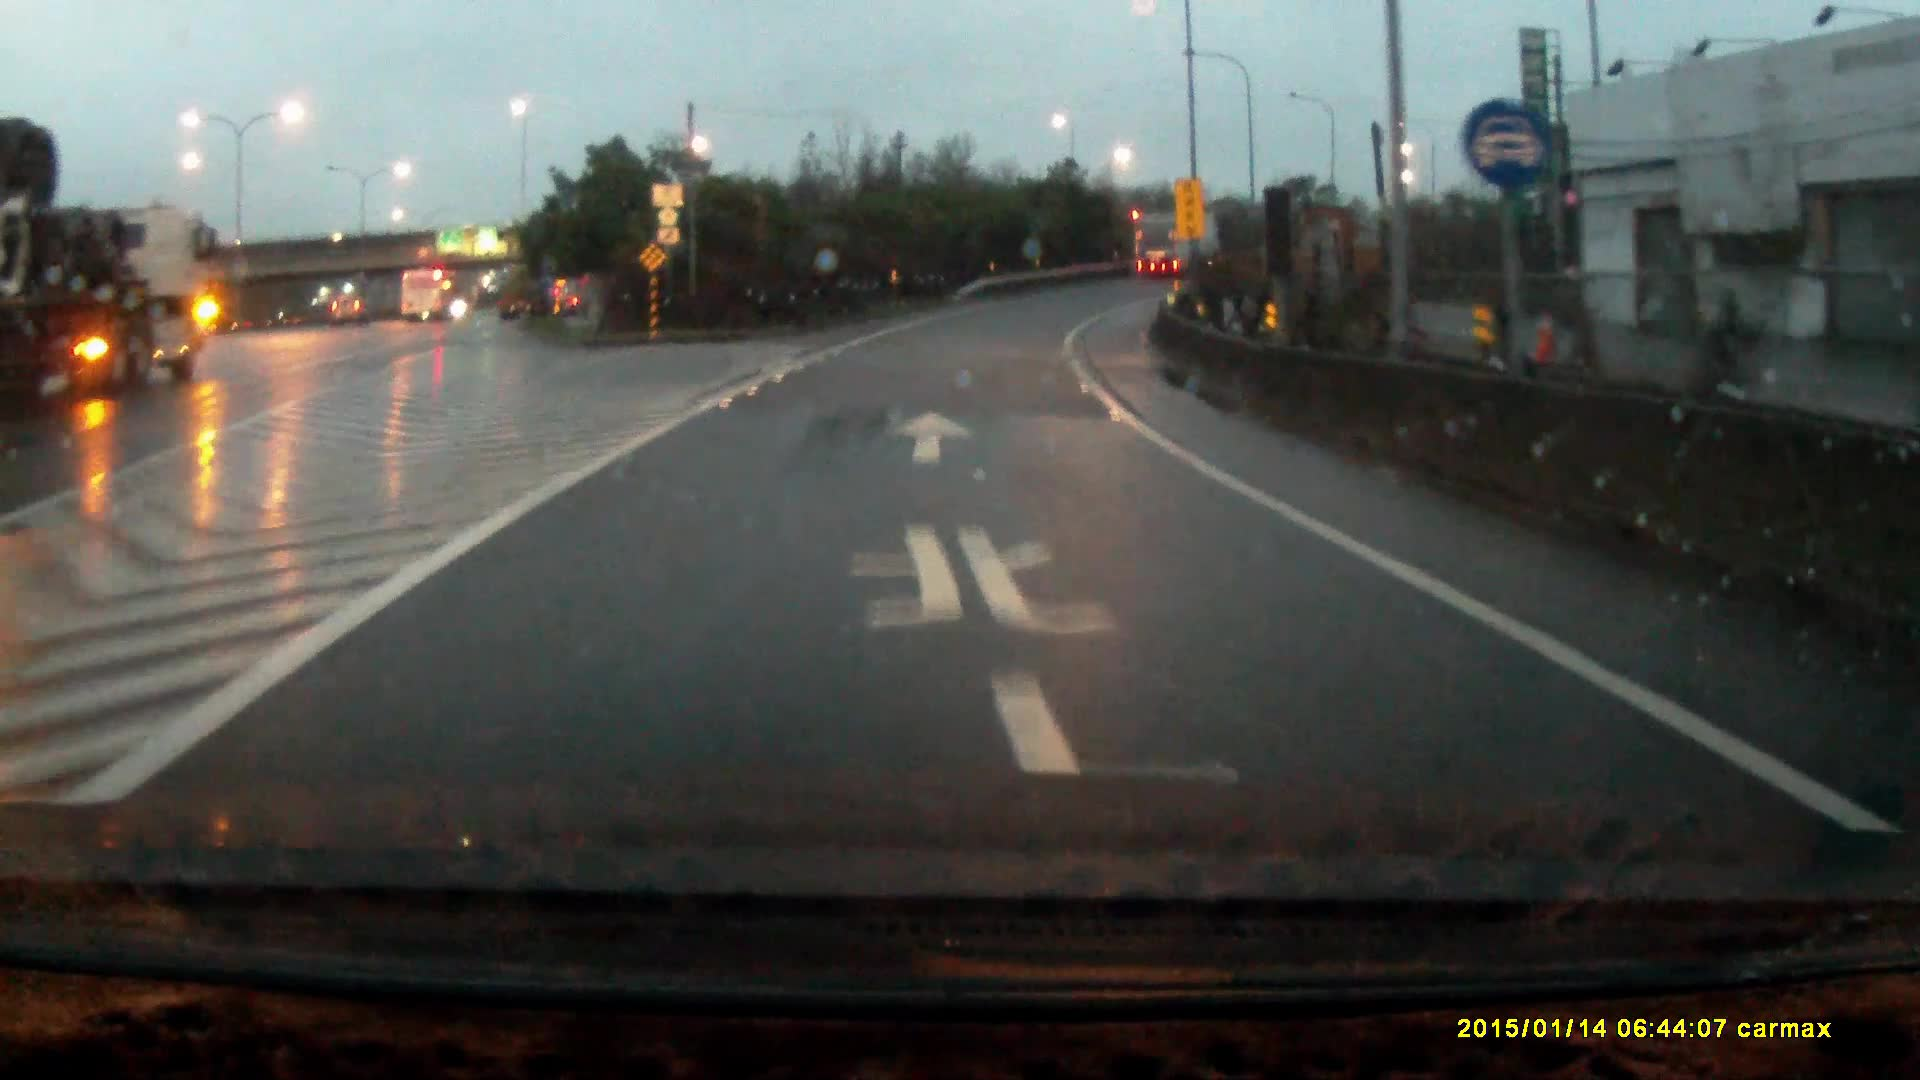vehicle: (1, 138, 215, 396), (1131, 210, 1226, 281), (402, 269, 458, 322), (332, 295, 367, 326)
